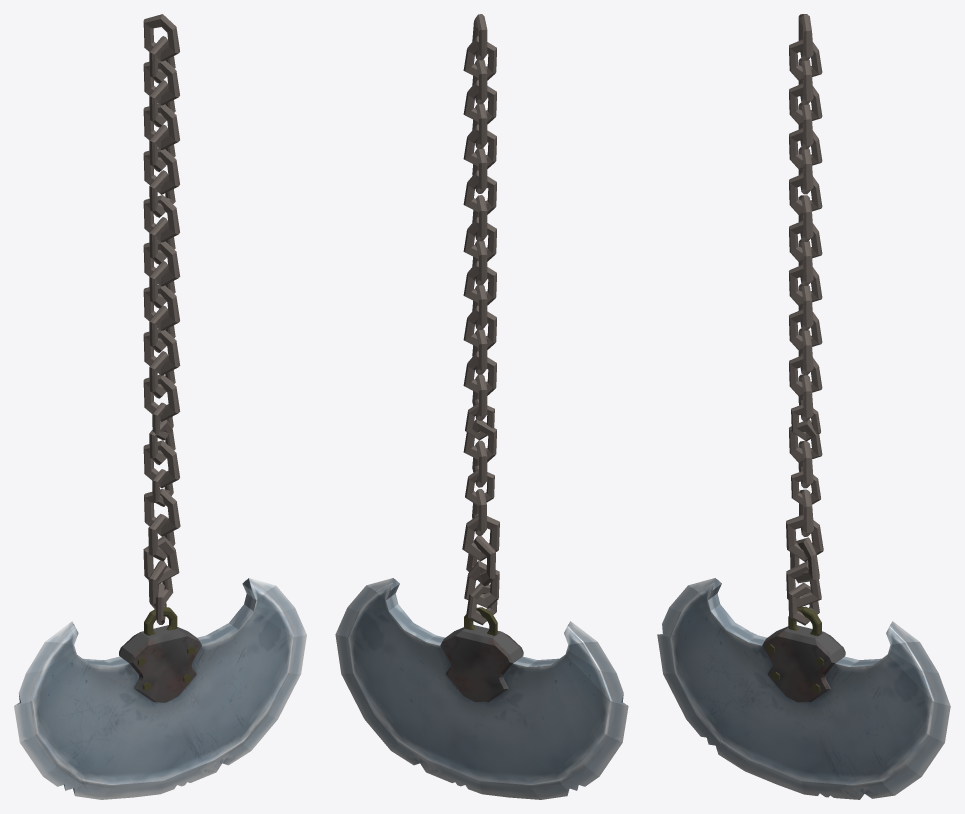
Rendered from Pendulo.fbx.
The picture shows the model from 3 angles, left to right: view 1: azimuth 30°, elevation 25°; view 2: azimuth 150°, elevation 25°; view 3: azimuth 330°, elevation 25°; orthographic projection.
Parts seen in each view (by area): view 1: Pendulo; view 2: Pendulo; view 3: Pendulo.
Boxes of the visible parts, x1=… form: Pendulo: x1=14, y1=14, x2=306, y2=799; Pendulo: x1=335, y1=14, x2=628, y2=799; Pendulo: x1=657, y1=14, x2=950, y2=799.
Bounding box in the file's own units: 472 × 1199 × 43.94.
